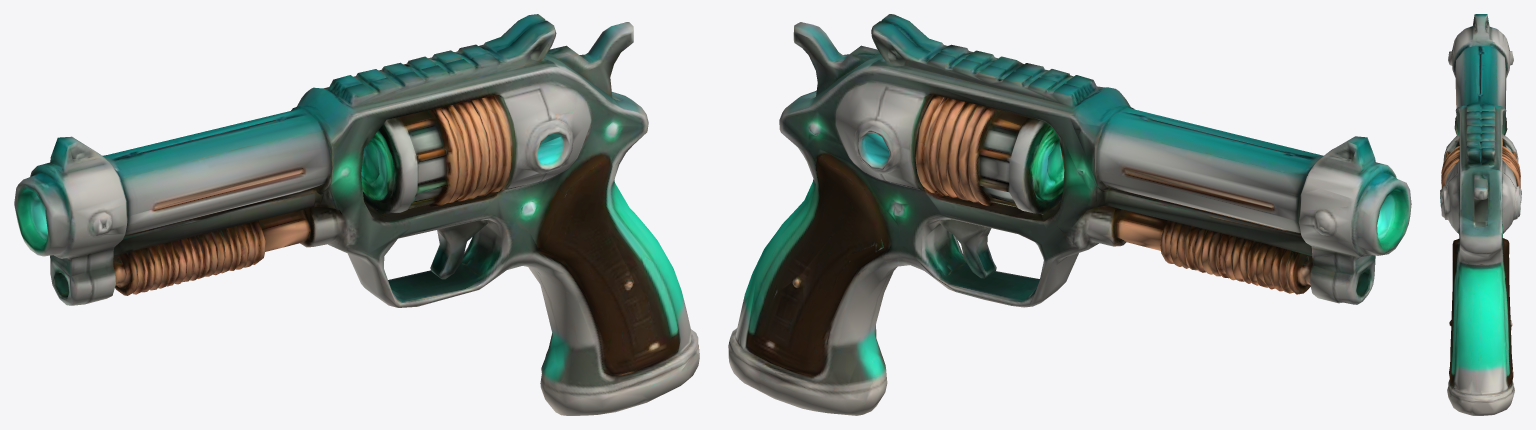
The model's file is PISTOLET2.glb.
The picture shows the model from 3 angles, left to right: view 1: azimuth 30°, elevation 25°; view 2: azimuth 150°, elevation 25°; view 3: azimuth 270°, elevation 25°; orthographic projection. The views are drawn at different scales.
Visible parts, largest first — view 1: node_0; view 2: node_0; view 3: node_0.
Part boxes in pixels (<box>): node_0: <box>14,14,699,415</box>; node_0: <box>728,14,1411,415</box>; node_0: <box>1440,14,1521,415</box>.
Bounding box in the file's own units: 1.07 × 0.618 × 0.1943.
Materials: 1 (1 with a texture image).
